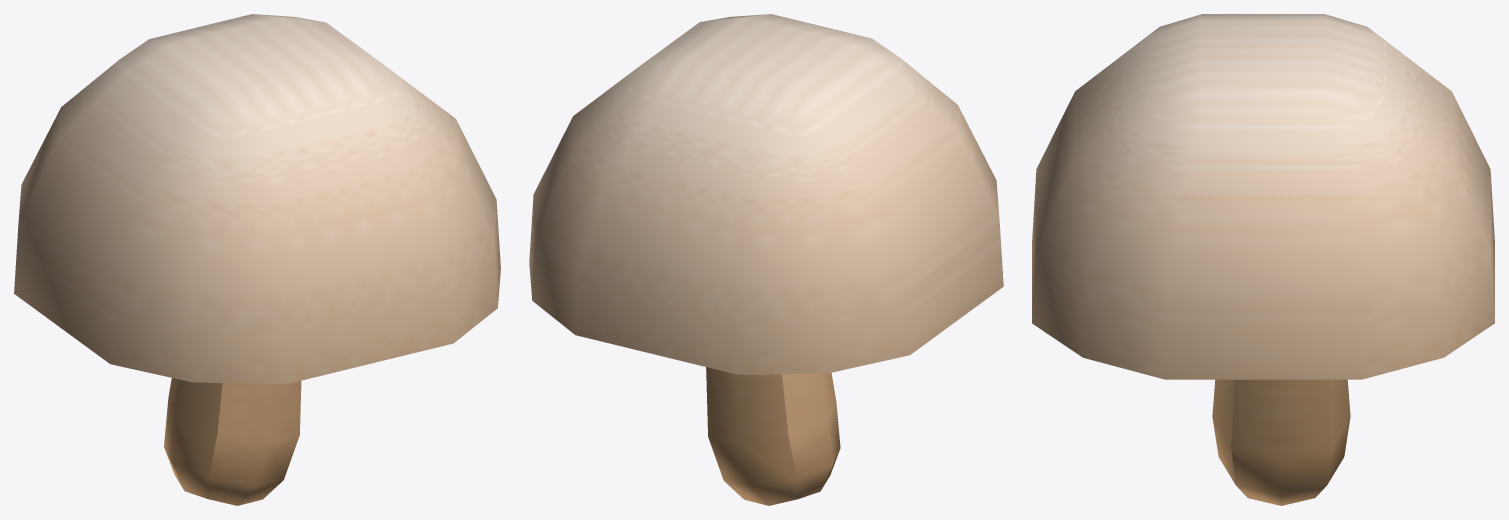
The model's file is food_ingredient_mushroom.gltf.
The picture shows the model from 3 angles, left to right: view 1: azimuth 30°, elevation 25°; view 2: azimuth 150°, elevation 25°; view 3: azimuth 270°, elevation 25°; orthographic projection. The views are drawn at different scales.
Visible parts, largest first — view 1: food_ingredient_mushroom; view 2: food_ingredient_mushroom; view 3: food_ingredient_mushroom.
Boxes of the visible parts, x1,y1,x2,y2 form: food_ingredient_mushroom: (14, 14, 500, 505); food_ingredient_mushroom: (529, 14, 1003, 505); food_ingredient_mushroom: (1032, 14, 1494, 505).
Bounding box in the file's own units: 0.5227 × 0.5707 × 0.5227.
1 material, 1 textured.
